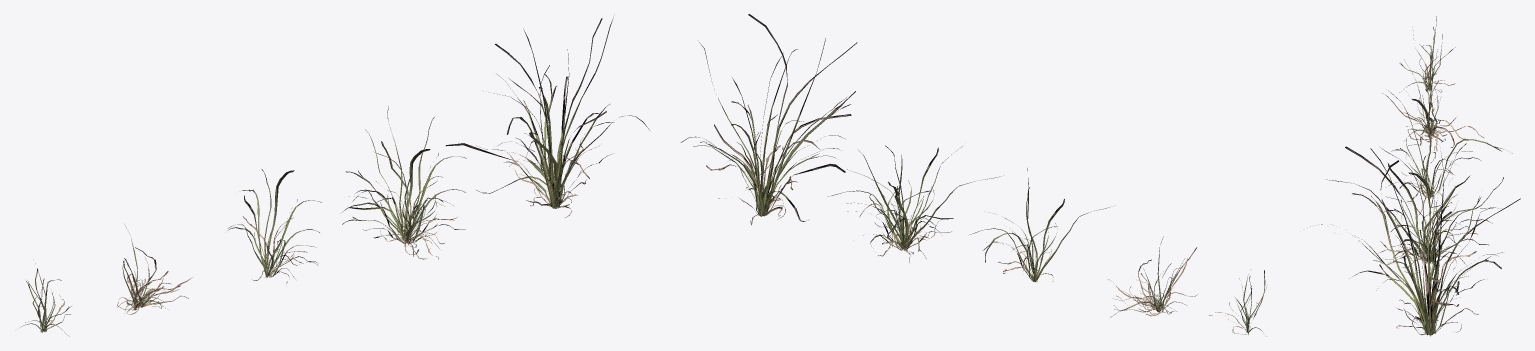
3 views of the same model, side by side, from view 1: azimuth 30°, elevation 25°; view 2: azimuth 150°, elevation 25°; view 3: azimuth 270°, elevation 25° (orthographic). The views are drawn at different scales.
Parts seen in each view (by area): view 1: grass_medium_02_e, grass_medium_02_d, grass_medium_02_c, grass_medium_02_b, grass_medium_02_a; view 2: grass_medium_02_e, grass_medium_02_d, grass_medium_02_c, grass_medium_02_b, grass_medium_02_a; view 3: grass_medium_02_e, grass_medium_02_d, grass_medium_02_c, grass_medium_02_b, grass_medium_02_a.
Boxes of the visible parts, x1,y1,x2,y2 form: grass_medium_02_e: [446, 17, 649, 217]; grass_medium_02_d: [340, 106, 466, 259]; grass_medium_02_c: [227, 169, 321, 283]; grass_medium_02_b: [117, 225, 192, 314]; grass_medium_02_a: [20, 263, 71, 336]; grass_medium_02_e: [681, 14, 857, 225]; grass_medium_02_d: [827, 145, 1000, 262]; grass_medium_02_c: [969, 168, 1109, 281]; grass_medium_02_b: [1108, 236, 1197, 317]; grass_medium_02_a: [1209, 270, 1266, 334]; grass_medium_02_e: [1310, 146, 1520, 336]; grass_medium_02_d: [1326, 143, 1503, 274]; grass_medium_02_c: [1388, 90, 1512, 214]; grass_medium_02_b: [1382, 49, 1483, 151]; grass_medium_02_a: [1399, 16, 1455, 92].
Size of the model in its own units: 1.31 by 0.4053 by 0.4326.
Materials: 1 (1 with a texture image).
